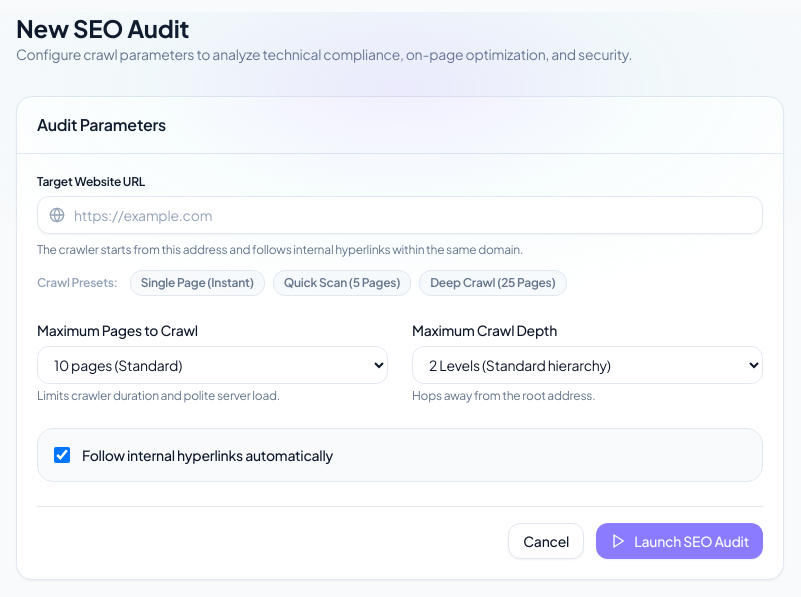
Test: NewAuditPage › validates and rejects localhost for SSRF protection
Type "http://localhost:8000" into the field labelled "Target Website URL".
click(400, 215); type("http://localhost:8000")  # box [37,196,763,234]
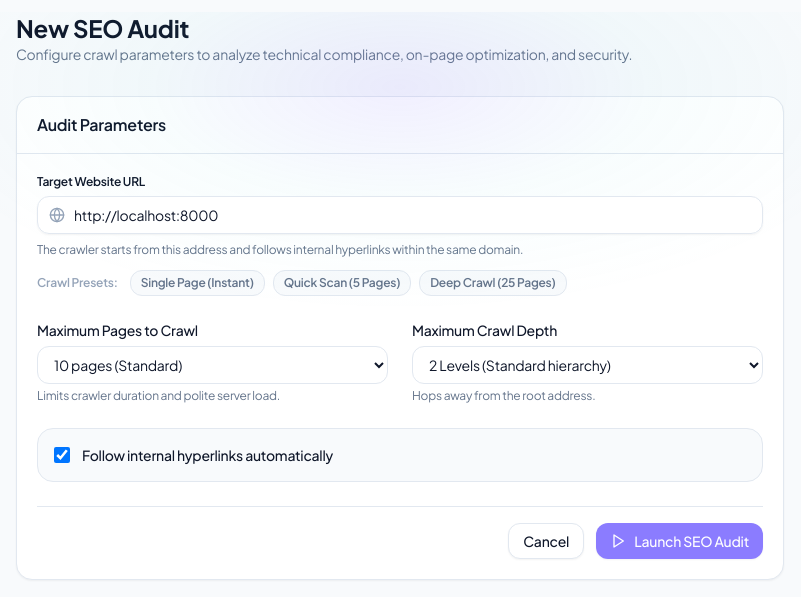
Submit the form, box [37,174,763,558]
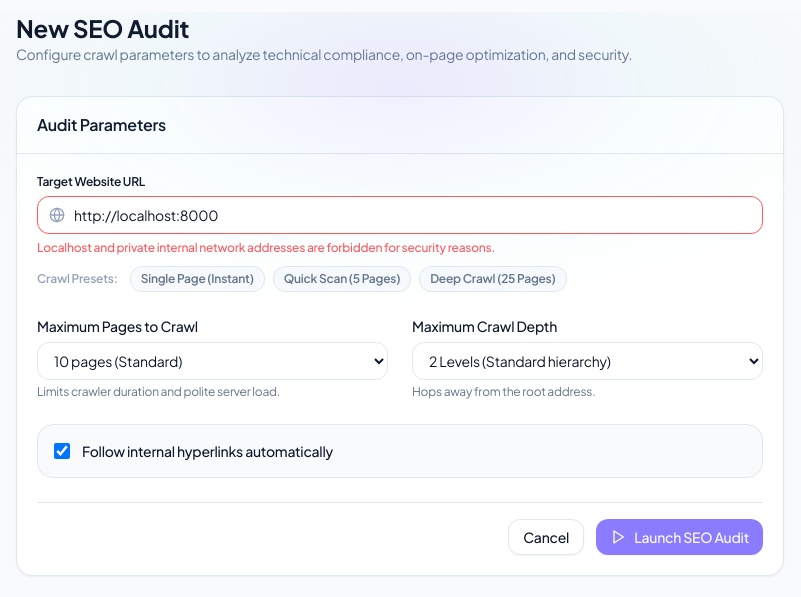
Expected: the text "Localhost and private internal network addresses are forbidden" is shown, [37,240,495,255]
